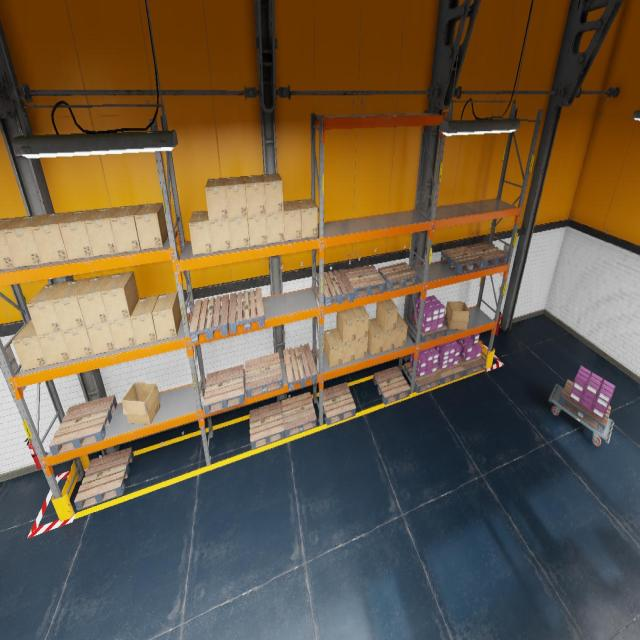box: (3, 214, 50, 267), (31, 212, 75, 263), (27, 282, 68, 336), (52, 278, 91, 331), (59, 209, 98, 260), (101, 272, 139, 322), (77, 274, 112, 326), (84, 207, 120, 256), (12, 320, 47, 370), (134, 202, 168, 250), (122, 382, 160, 424), (110, 204, 142, 253), (130, 295, 158, 345), (152, 292, 181, 340), (0, 216, 25, 269), (37, 331, 71, 365), (189, 210, 212, 255), (62, 326, 93, 359), (205, 178, 228, 220), (86, 322, 115, 354), (225, 176, 247, 218), (244, 175, 266, 216), (109, 318, 136, 350), (262, 174, 284, 213), (228, 211, 250, 249), (297, 199, 317, 238), (324, 328, 343, 367), (283, 200, 301, 241), (209, 219, 231, 252), (445, 301, 470, 330), (376, 299, 398, 331), (376, 318, 396, 352), (337, 308, 356, 343), (367, 318, 384, 355), (351, 306, 369, 340), (248, 214, 267, 246), (266, 212, 285, 244), (338, 332, 356, 363), (394, 312, 408, 348), (355, 336, 368, 359)
pallets: (49, 394, 117, 456), (74, 447, 134, 510), (559, 379, 611, 434), (203, 364, 244, 415), (190, 294, 230, 342), (245, 353, 282, 398), (228, 288, 264, 334), (250, 401, 284, 449), (283, 344, 317, 391), (281, 392, 316, 437), (373, 366, 410, 405), (323, 382, 356, 425), (317, 269, 354, 306), (344, 266, 385, 298), (440, 246, 484, 274), (378, 262, 418, 291), (404, 362, 441, 393), (466, 242, 508, 268), (408, 314, 447, 342), (437, 362, 464, 384), (458, 356, 486, 376)
